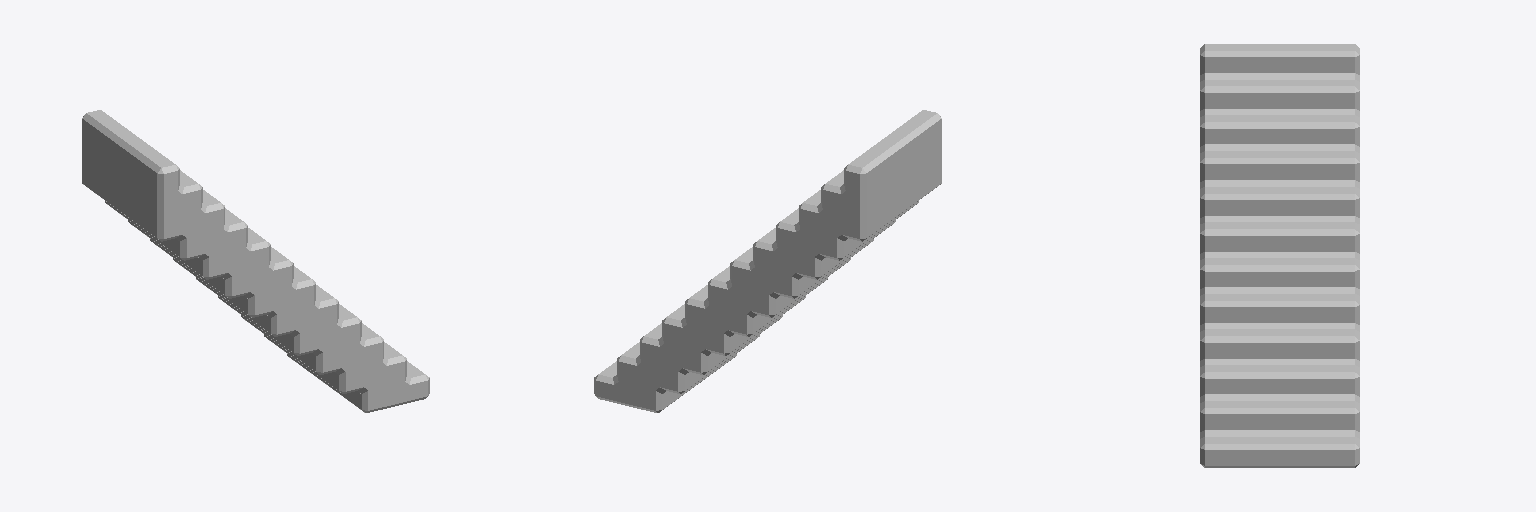
The model's file is high poly trap.obj.
3 views of the same model, side by side, from view 1: azimuth 30°, elevation 25°; view 2: azimuth 150°, elevation 25°; view 3: azimuth 270°, elevation 25° (orthographic).
Parts seen in each view (by area): view 1: Stairs; view 2: Stairs; view 3: Stairs.
Boxes of the visible parts, x1=… form: Stairs: x1=82, y1=110, x2=429, y2=412; Stairs: x1=594, y1=110, x2=941, y2=412; Stairs: x1=1200, y1=44, x2=1359, y2=467.
Size of the model in its own units: 1.94 by 2.01 by 0.9845.